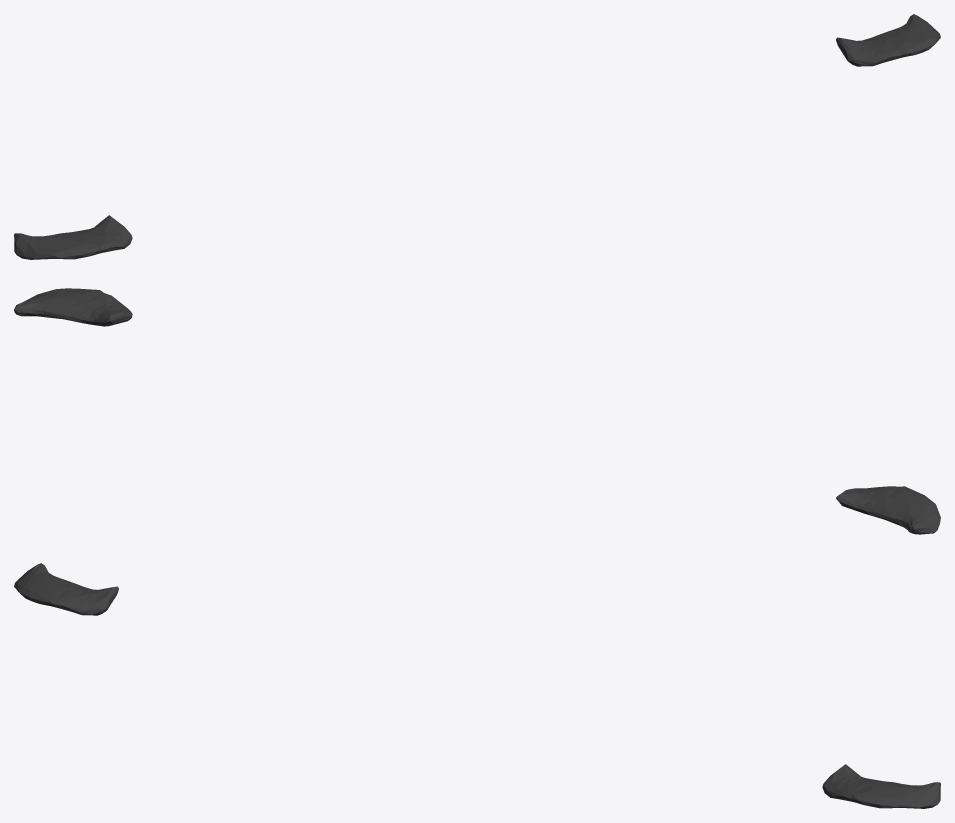
Rendered from lig_impar_distal_sesamoidean_HL.glb.
3 renders of one model, top to bottom at view 1: azimuth 30°, elevation 25°; view 2: azimuth 150°, elevation 25°; view 3: azimuth 330°, elevation 25°, orthographic.
Parts seen in each view (by area): view 1: lig_impar_distal_sesamoidean_HL; view 2: lig_impar_distal_sesamoidean_HL; view 3: lig_impar_distal_sesamoidean_HL.
Boxes of the visible parts, <box> form: lig_impar_distal_sesamoidean_HL: <box>14,14,940,259</box>; lig_impar_distal_sesamoidean_HL: <box>14,288,940,534</box>; lig_impar_distal_sesamoidean_HL: <box>14,563,940,808</box>.
Size of the model in its own units: 0.00584 by 0.000104 by 0.000433.
Materials: 1 (1 with a texture image).
